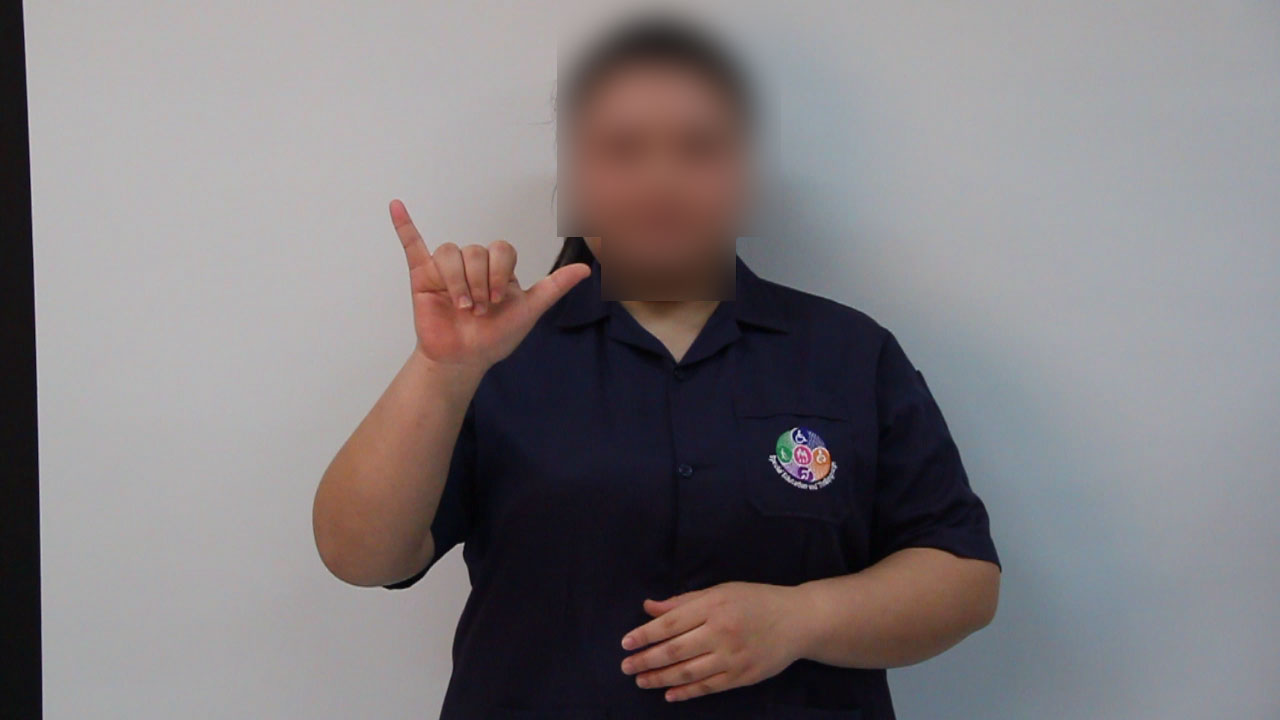yor: (372, 186, 600, 374)
